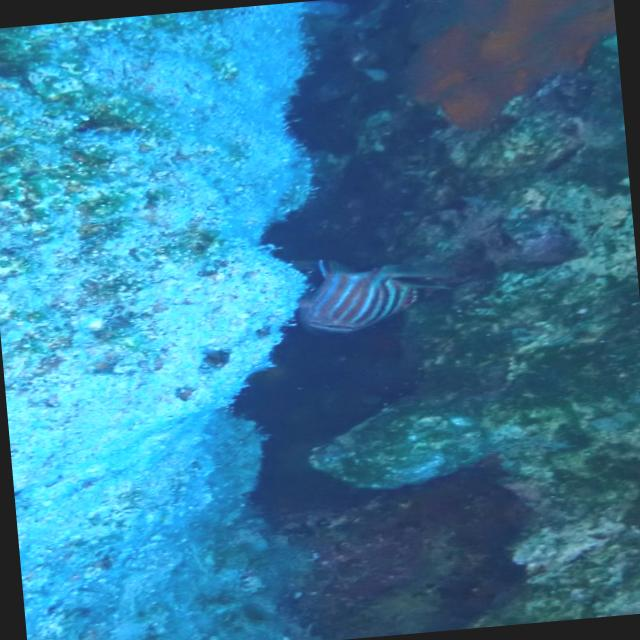Asker Baligi: (292, 238, 464, 354)
